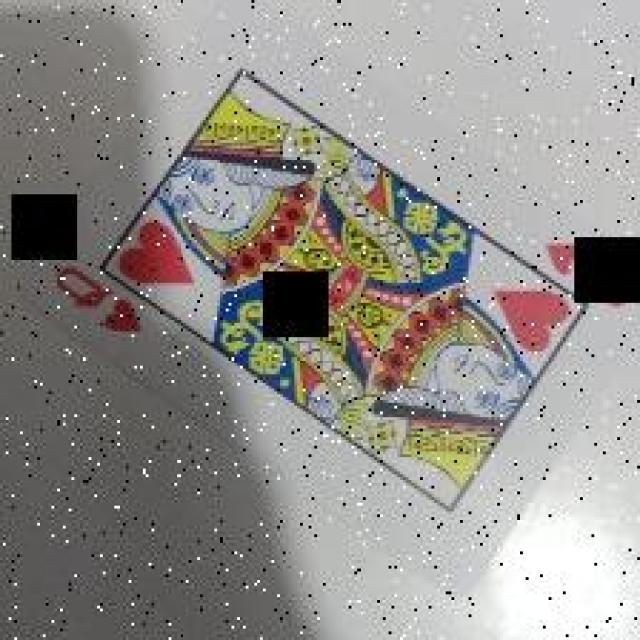Queen of hearts: (17, 16, 640, 614)
